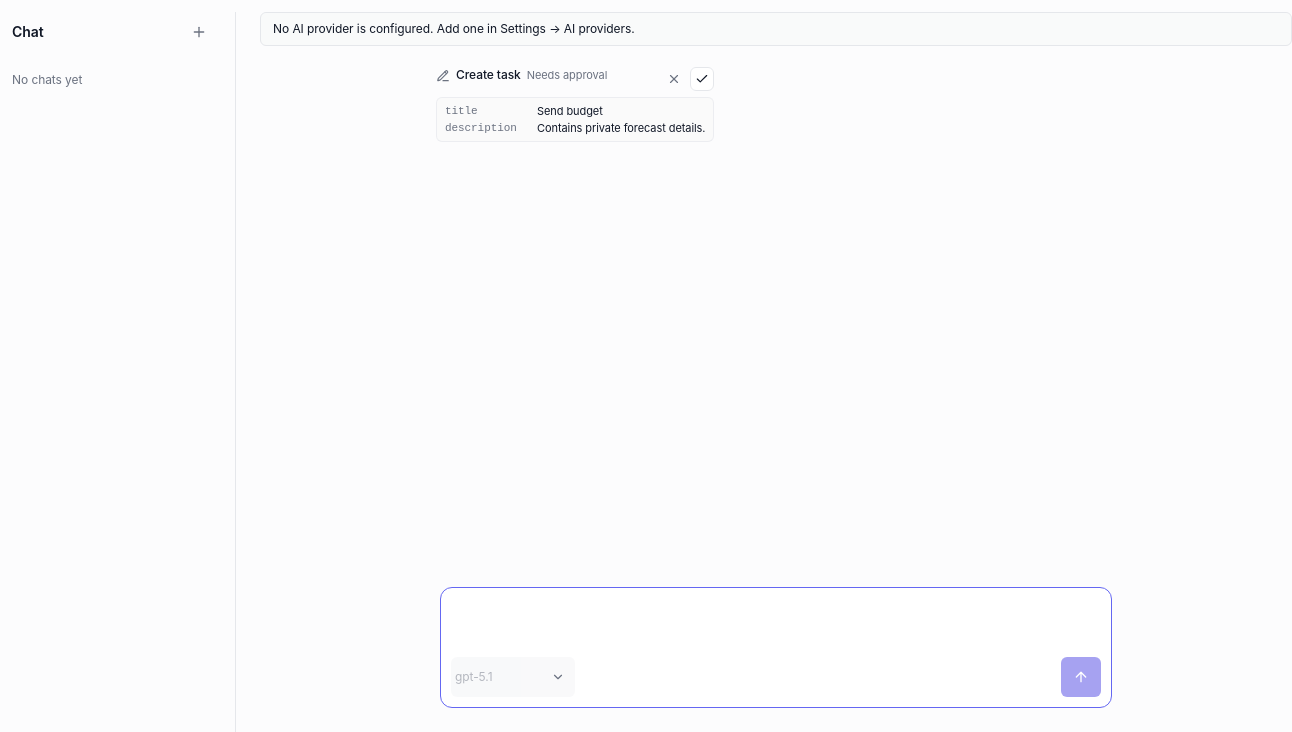
Test: ChatSurface › settles a restored stale approval with retry guidance and unlocks the composer
Expected: the text "description" is shown, [445,121,525,135]
Expected: the text "Contains private forecast details." is shown, [537,121,705,135]
Type "Try that again" into the text box named "Chat message" at (776, 620), box [441,588,1111,652]
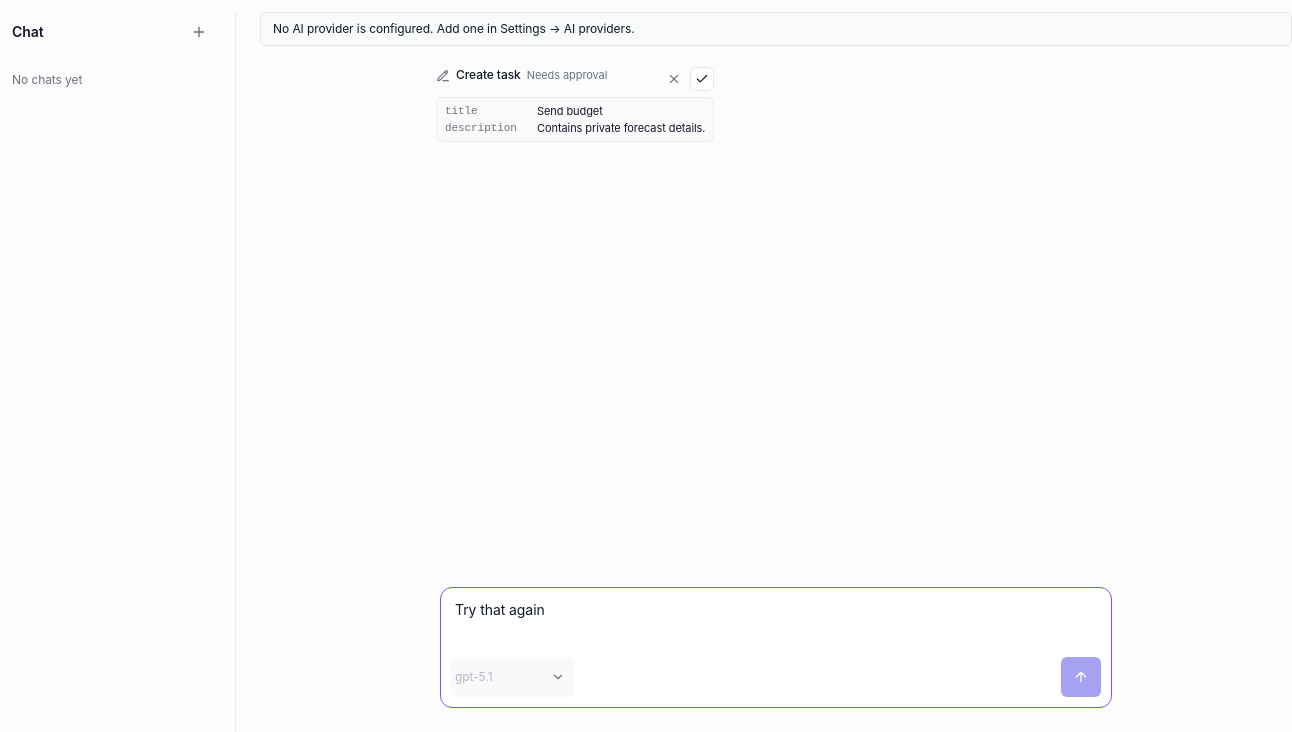
Click the button named "Approve create task" at (702, 79), box [690,67,714,91]
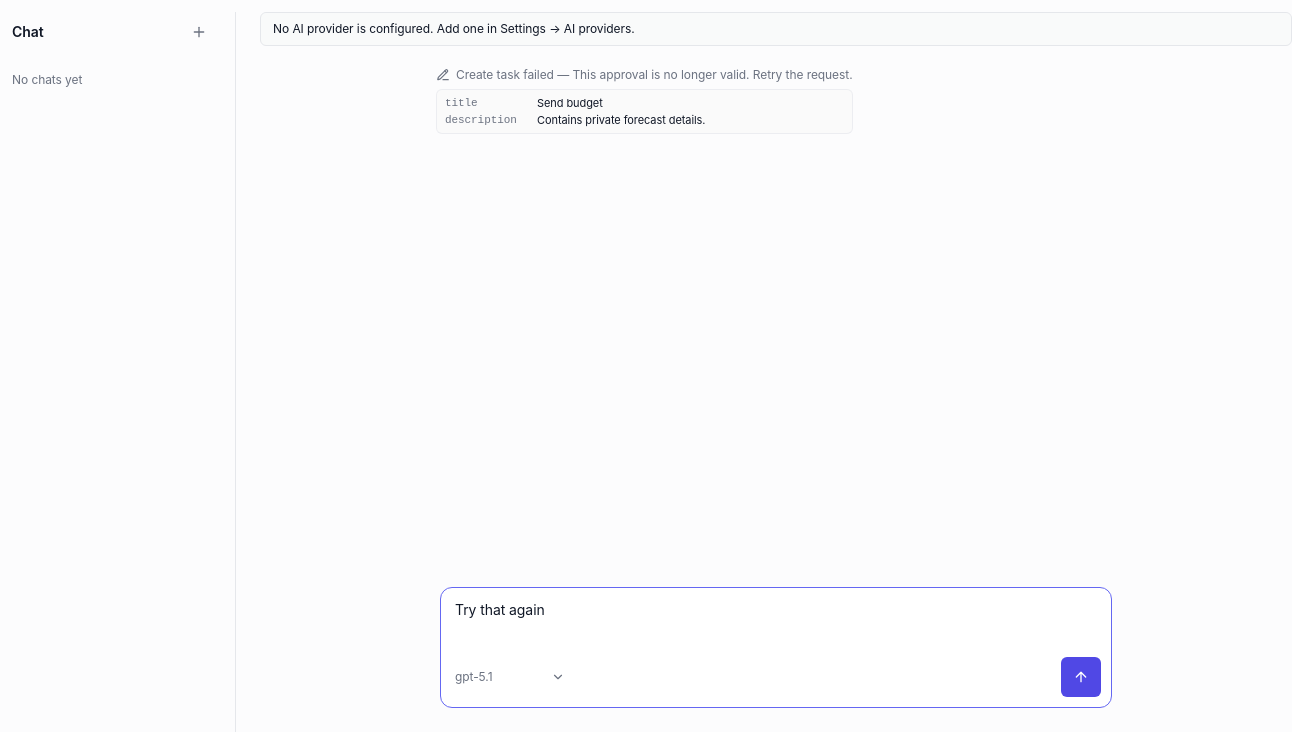
Result: the text "This approval is no longer valid. Retry the request." is shown at [572,67,852,82]
Result: the button named "Send" is enabled at [1061,657,1101,697]
